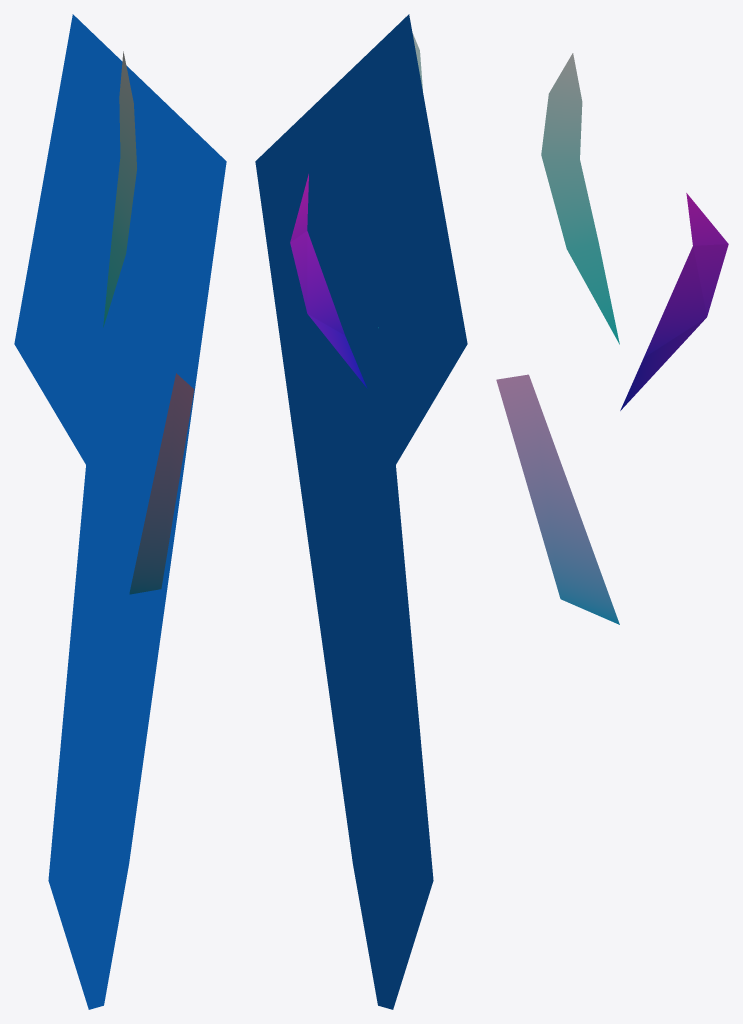
File: Nordic_Coastal_Groundcover_vlqkdeaja_Mid_vlqkdeaja_VarC_LOD1.fbx
3 views of the same model, side by side, from view 1: azimuth 30°, elevation 25°; view 2: azimuth 150°, elevation 25°; view 3: azimuth 270°, elevation 25° (orthographic).
Parts seen in each view (by area): view 1: _00a9_VarC_LOD3; view 2: _00a9_VarC_LOD3; view 3: _00a9_VarC_LOD3.
Boxes of the visible parts, <box> form: _00a9_VarC_LOD3: <box>14,14,226,1009</box>; _00a9_VarC_LOD3: <box>255,14,467,1009</box>; _00a9_VarC_LOD3: <box>496,53,728,624</box>.
Bounding box in the file's own units: 10.59 × 47.66 × 10.23.
